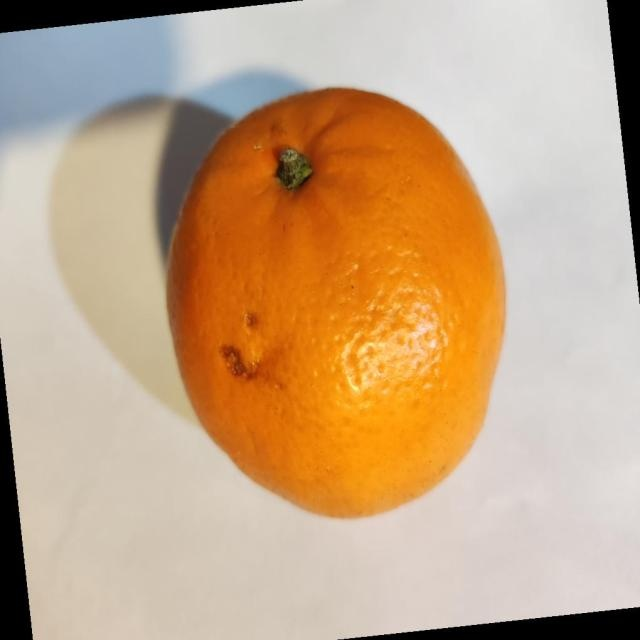agrume: (164, 85, 507, 519)
